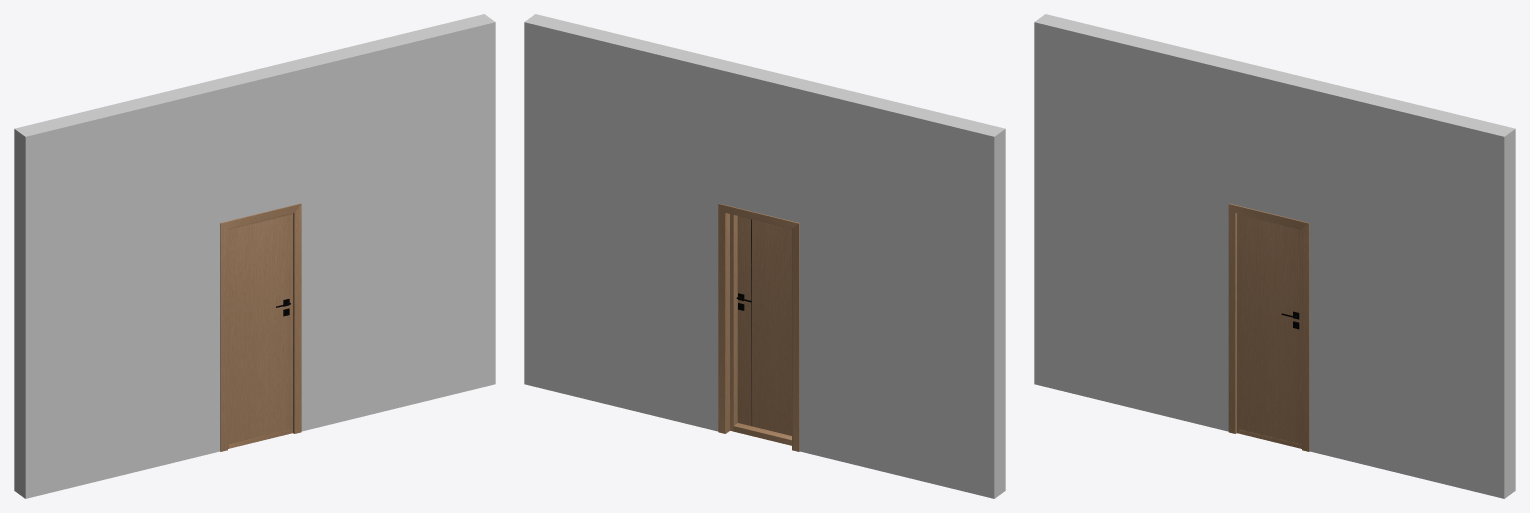
3 views of the same model, side by side, from view 1: azimuth 30°, elevation 25°; view 2: azimuth 150°, elevation 25°; view 3: azimuth 330°, elevation 25° (orthographic).
Visible parts, largest first — view 1: _2_wall_frame_architrave, _2_door_; view 2: _2_wall_frame_architrave, _2_door_, _2_threshold; view 3: _2_wall_frame_architrave, _2_door_.
Boxes of the visible parts, x1=… form: _2_wall_frame_architrave: x1=14, y1=14, x2=495, y2=498; _2_door_: x1=229, y1=215, x2=290, y2=444; _2_wall_frame_architrave: x1=524, y1=14, x2=1005, y2=498; _2_door_: x1=736, y1=216, x2=791, y2=435; _2_threshold: x1=733, y1=423, x2=791, y2=445; _2_wall_frame_architrave: x1=1034, y1=14, x2=1515, y2=498; _2_door_: x1=1239, y1=215, x2=1300, y2=444.
Bounding box in the file's own units: 3.96 × 2.92 × 0.2016.
3 materials, 2 textured.
